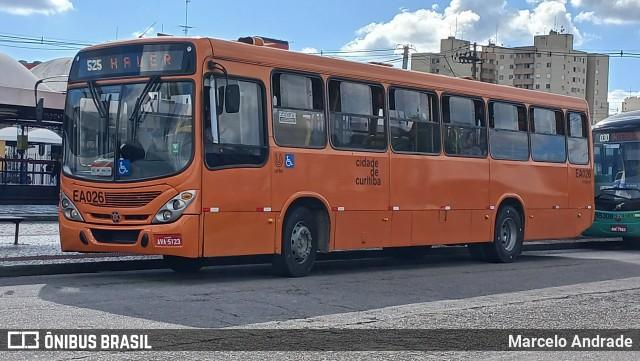HAUER: (107, 53, 175, 72)
